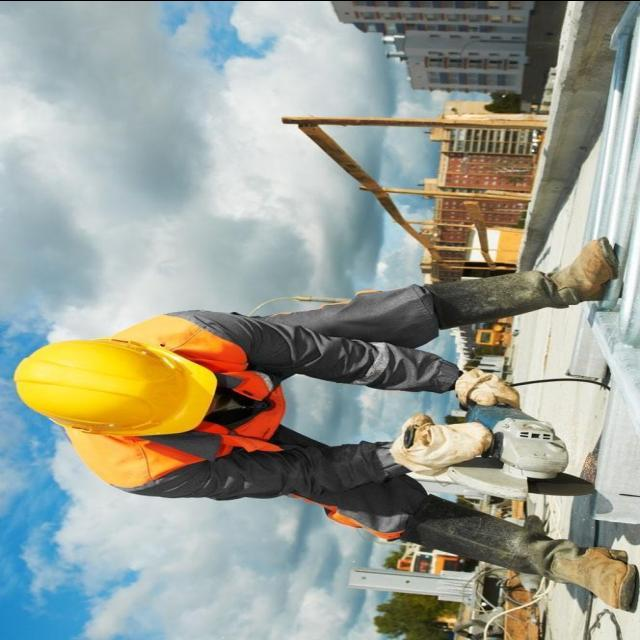helmet: (13, 334, 220, 440)
